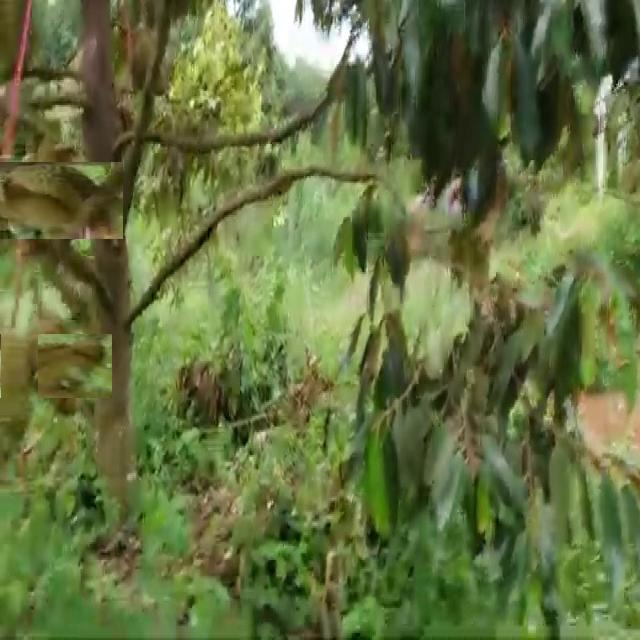durian: (1, 147, 109, 253), (9, 320, 100, 411), (1, 322, 38, 474)
